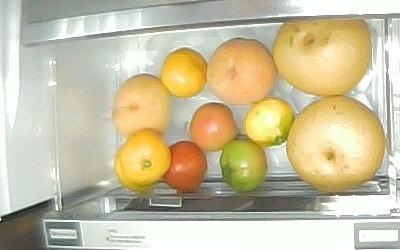peach: (206, 37, 277, 103), (113, 74, 171, 137)
pear: (286, 96, 384, 192), (272, 18, 371, 96)
tangerine: (119, 129, 171, 185), (219, 138, 267, 194), (244, 96, 295, 147), (160, 47, 207, 98)
tomato: (189, 102, 237, 151), (163, 140, 207, 191)
